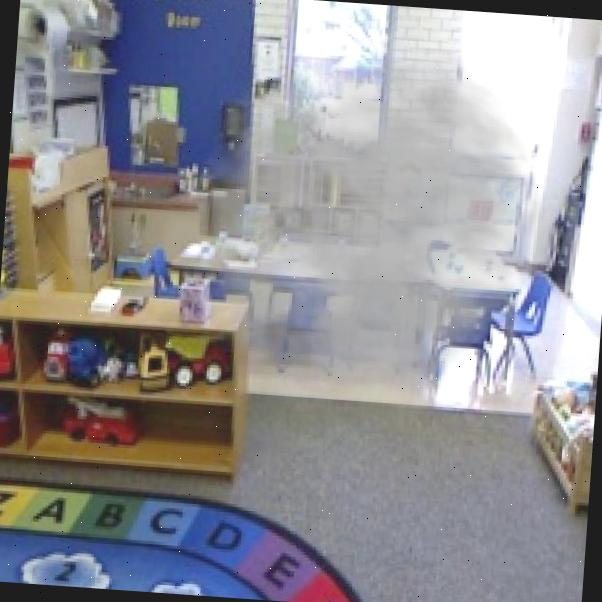smoke: (144, 27, 570, 442)
